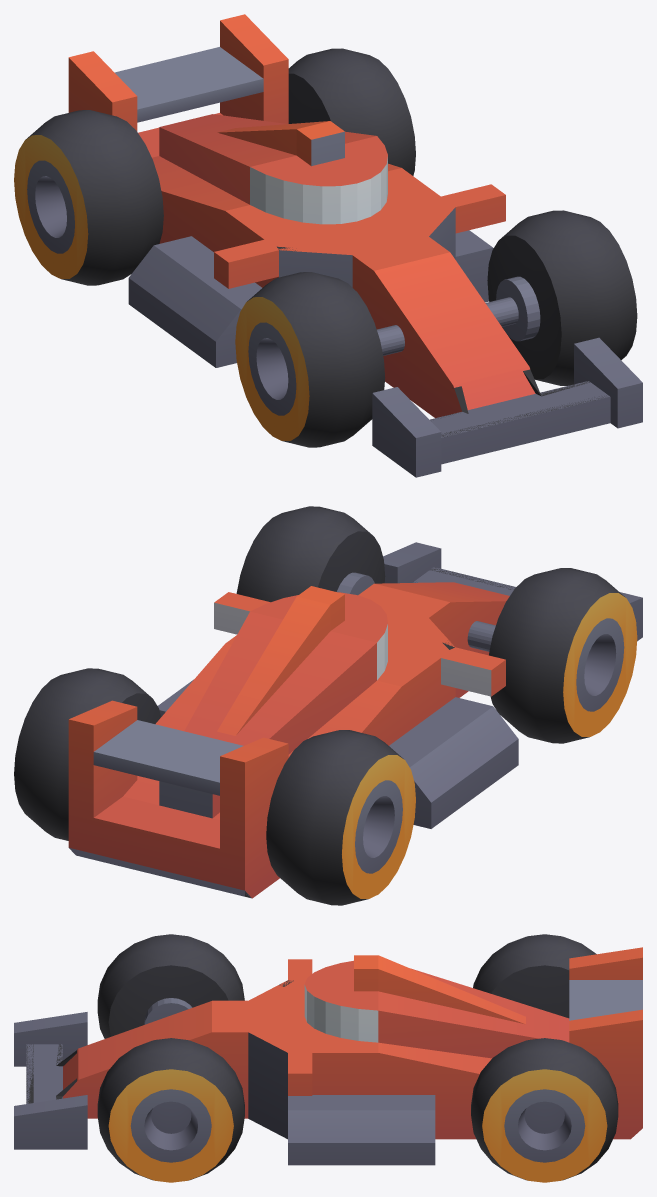
Rendered from ToyRace.fbx.
3 renders of one model, top to bottom at view 1: azimuth 30°, elevation 25°; view 2: azimuth 150°, elevation 25°; view 3: azimuth 270°, elevation 25°, orthographic. The views are drawn at different scales.
Parts seen in each view (by area): view 1: ToyRace_Body, Wheel_RR, Wheel_FR, ToyRace_Part_Hood, Wheel_FL, ToyRace_Part_Spoiler, ToyRace_Part_DoorRight, ToyRace_Part_FrontBumper, Wheel_RL, ToyRace_Part_Trunk, ToyRace_Part_DoorLeft; view 2: ToyRace_Body, ToyRace_Part_Spoiler, Wheel_RR, Wheel_FR, ToyRace_Part_Trunk, ToyRace_Part_DoorRight, Wheel_RL, Wheel_FL, ToyRace_Part_Hood, ToyRace_Part_FrontBumper, ToyRace_Part_DoorLeft; view 3: ToyRace_Body, ToyRace_Part_DoorLeft, Wheel_RL, Wheel_FL, ToyRace_Part_Trunk, ToyRace_Part_Hood, ToyRace_Part_Spoiler, Wheel_FR, Wheel_RR, ToyRace_Part_FrontBumper.
Boxes of the visible parts, left/top/right/bottom form: ToyRace_Body: left=138, top=60, right=642, bottom=437; Wheel_RR: left=14, top=110, right=163, bottom=285; Wheel_FR: left=235, top=272, right=385, bottom=447; ToyRace_Part_Hood: left=335, top=223, right=529, bottom=415; Wheel_FL: left=487, top=210, right=637, bottom=385; ToyRace_Part_Spoiler: left=68, top=14, right=288, bottom=169; ToyRace_Part_DoorRight: left=128, top=186, right=296, bottom=367; ToyRace_Part_FrontBumper: left=372, top=346, right=642, bottom=477; Wheel_RL: left=288, top=48, right=415, bottom=175; ToyRace_Part_Trunk: left=156, top=118, right=356, bottom=200; ToyRace_Part_DoorLeft: left=449, top=195, right=505, bottom=302; ToyRace_Body: left=68, top=542, right=642, bottom=898; ToyRace_Part_Spoiler: left=68, top=700, right=288, bottom=898; Wheel_RR: left=266, top=730, right=415, bottom=905; Wheel_FR: left=489, top=568, right=637, bottom=743; ToyRace_Part_Trunk: left=171, top=620, right=364, bottom=757; ToyRace_Part_DoorRight: left=345, top=670, right=518, bottom=828; Wheel_RL: left=14, top=668, right=161, bottom=840; Wheel_FL: left=236, top=506, right=385, bottom=602; ToyRace_Part_Hood: left=358, top=582, right=509, bottom=650; ToyRace_Part_FrontBumper: left=384, top=548, right=642, bottom=641; ToyRace_Part_DoorLeft: left=155, top=620, right=244, bottom=727; ToyRace_Body: left=14, top=955, right=642, bottom=1139; ToyRace_Part_DoorLeft: left=278, top=1053, right=482, bottom=1165; Wheel_RL: left=471, top=1038, right=618, bottom=1182; Wheel_FL: left=97, top=1038, right=244, bottom=1182; ToyRace_Part_Trunk: left=404, top=966, right=554, bottom=1068; ToyRace_Part_Hood: left=77, top=1000, right=278, bottom=1118; ToyRace_Part_Spoiler: left=555, top=947, right=642, bottom=1127; Wheel_FR: left=97, top=934, right=244, bottom=1038; Wheel_RR: left=473, top=934, right=596, bottom=1018; ToyRace_Part_FrontBumper: left=14, top=1024, right=87, bottom=1149.
Size of the model in its own units: 1.3 by 0.7325 by 2.56.
Materials: 3 (3 with a texture image).
